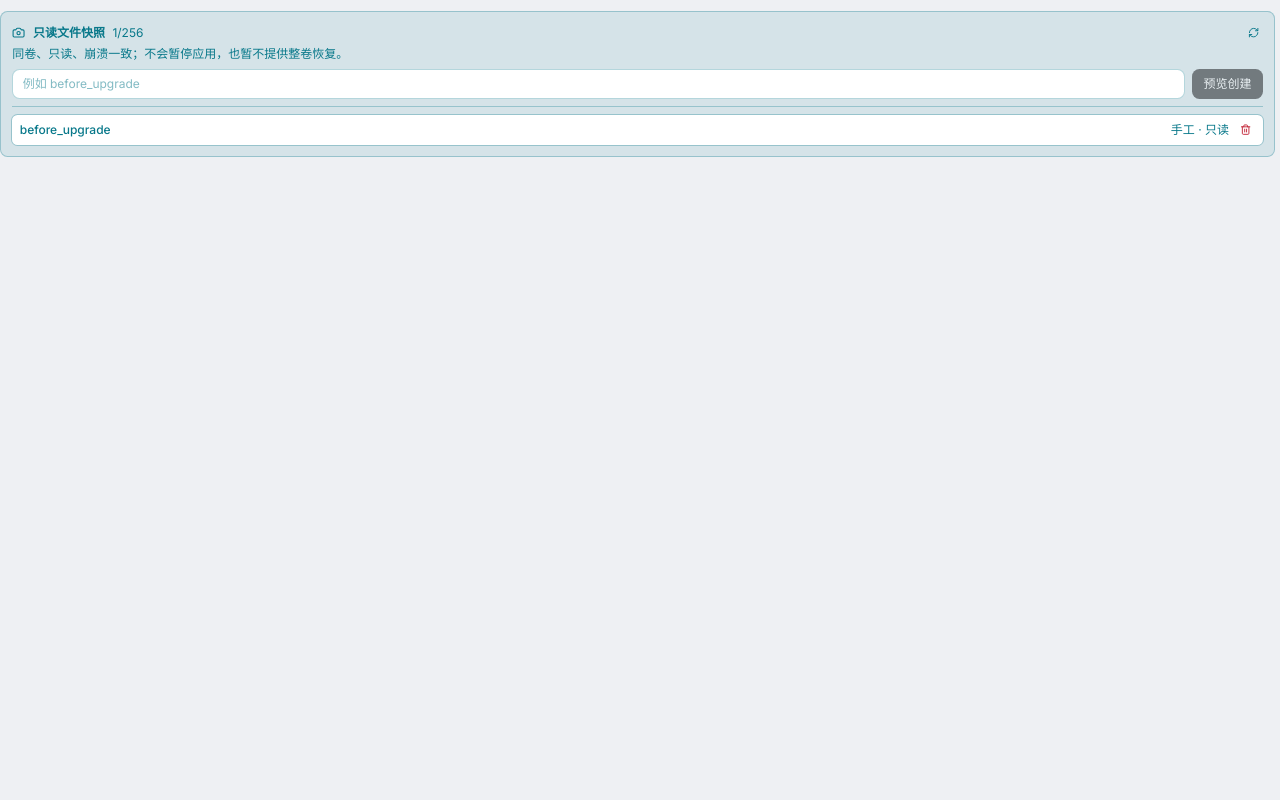
it: BtrfsSnapshotPanel › previews deletion by opaque snapshot id before opening approval
Expected: the text "before_upgrade" is shown, [20, 122, 111, 136]
What coordinates should you click on to do the following:
click the button named "删除快照 before_upgrade"
I would click on:
 (1246, 130)
Its box is [1236, 120, 1255, 139].
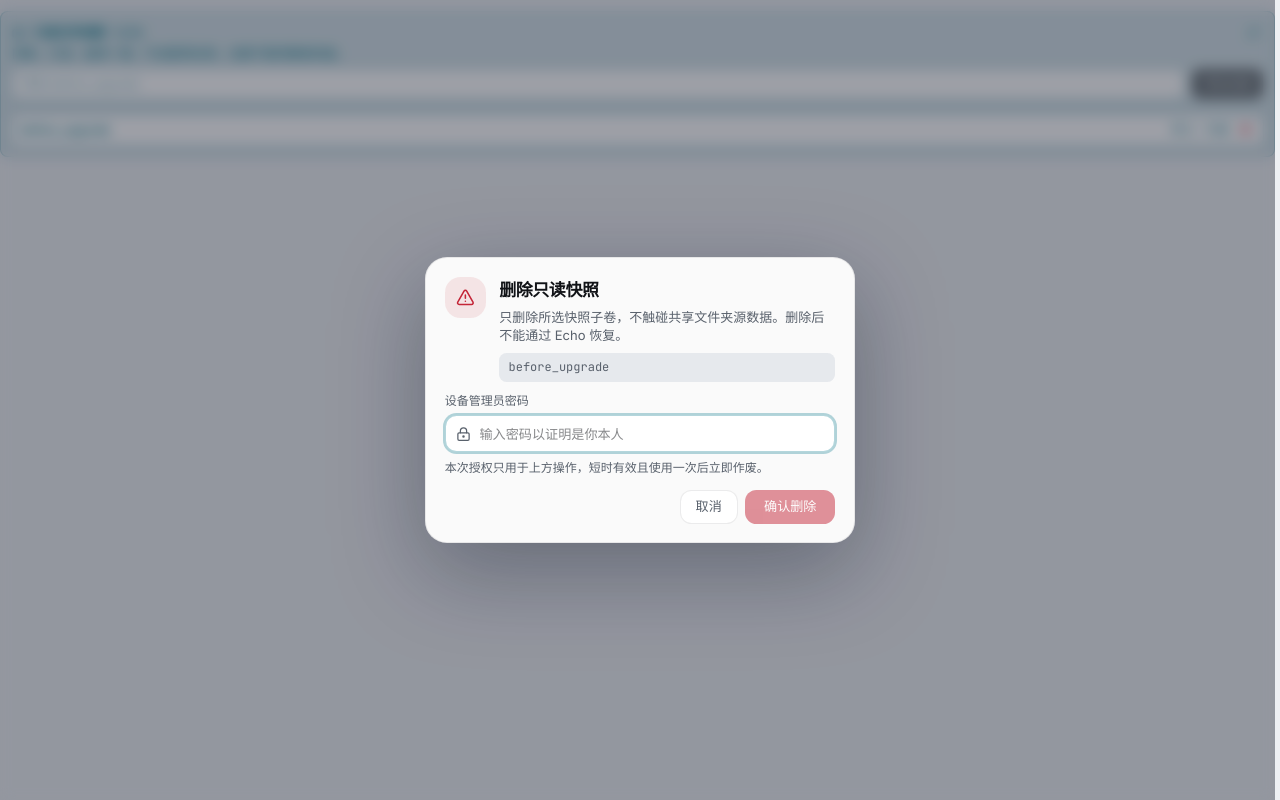
Result: the dialog is shown at [425, 257, 855, 543]
